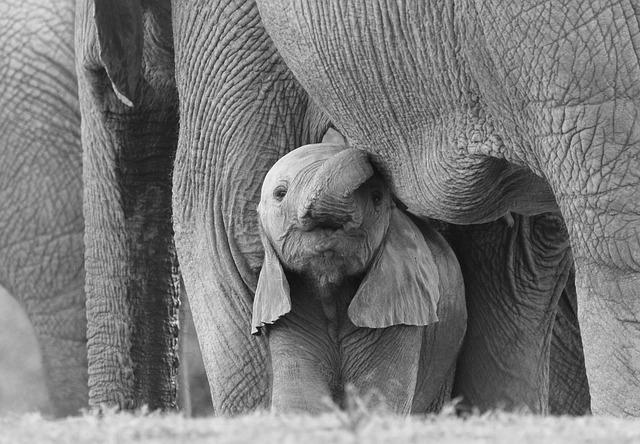Non_Gorille: (48, 17, 610, 404)
